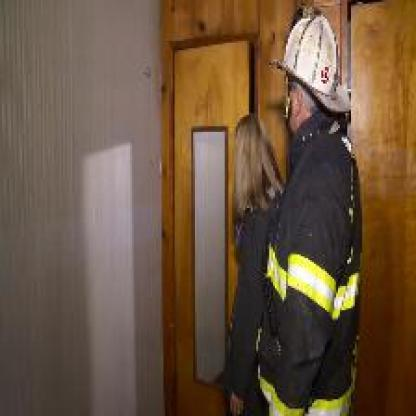other: (101, 166, 125, 279), (282, 261, 332, 302)
